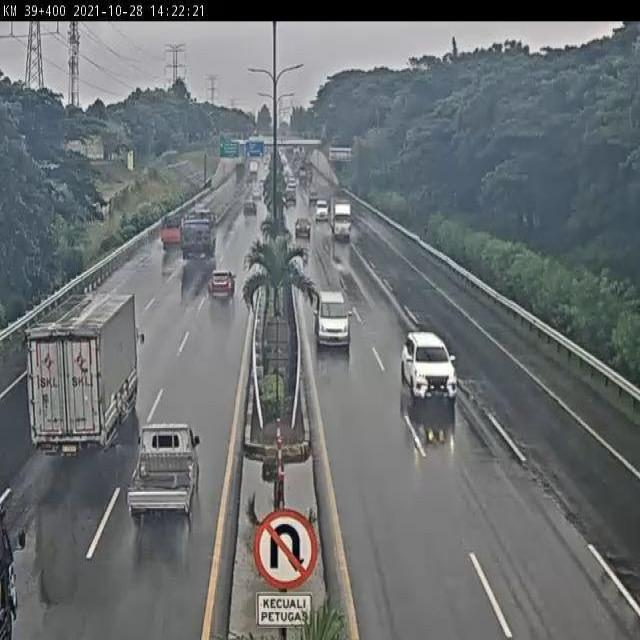car: (126, 419, 199, 524), (398, 330, 459, 406), (312, 288, 352, 349), (206, 268, 237, 303)
truck-l-: (22, 292, 141, 461), (177, 208, 221, 264)
truck-s-: (159, 213, 187, 250)
